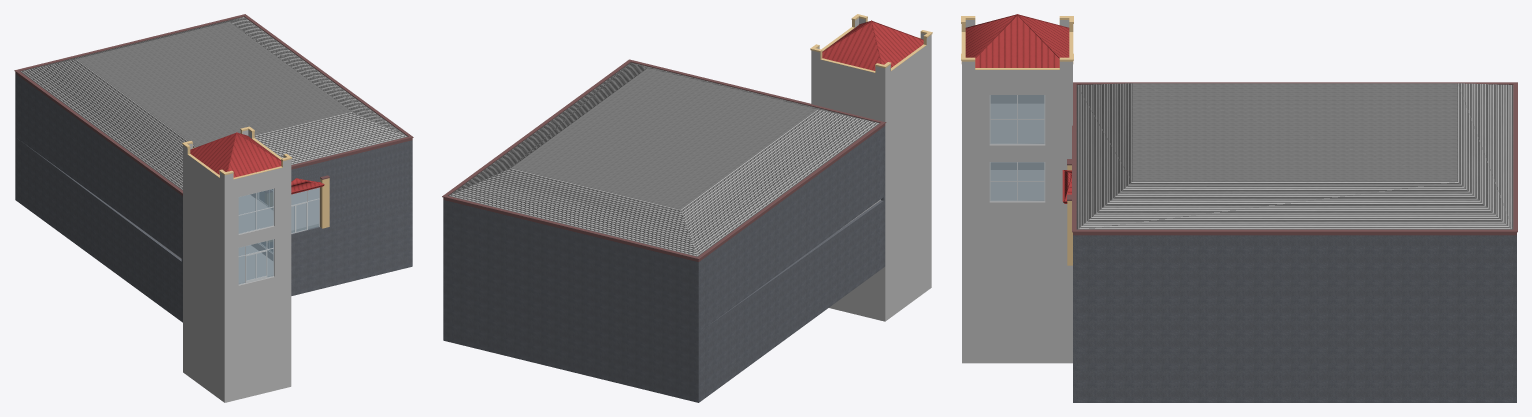
The model's file is A23_Building07.fbx.
3 views of the same model, side by side, from view 1: azimuth 30°, elevation 25°; view 2: azimuth 150°, elevation 25°; view 3: azimuth 270°, elevation 25° (orthographic). The views are drawn at different scales.
Parts seen in each view (by area): view 1: BD1933, BD1934; view 2: BD1933, BD1934; view 3: BD1933, BD1934.
Part boxes in pixels (<box>): BD1933: <box>14,14,413,322</box>; BD1934: <box>182,126,291,402</box>; BD1933: <box>442,59,886,402</box>; BD1934: <box>810,14,932,321</box>; BD1933: <box>1062,82,1517,402</box>; BD1934: <box>961,14,1073,363</box>.
Size of the model in its own units: 19.1 by 19.54 by 30.1.
